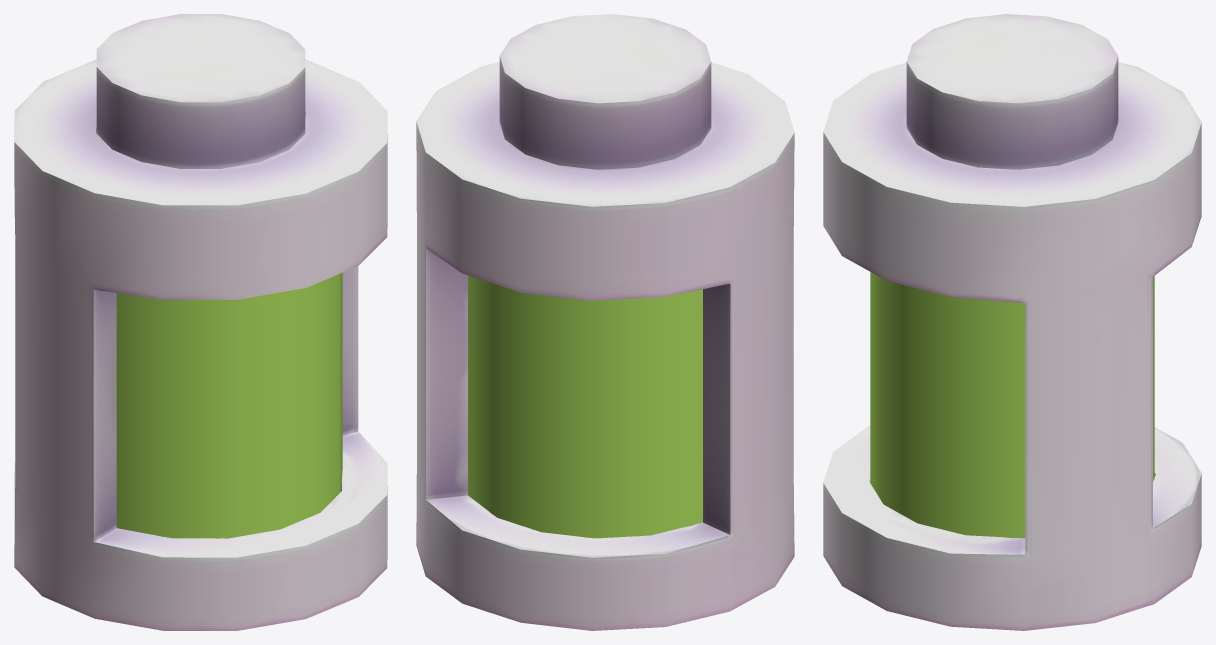
File: Banka.fbx
3 renders of one model, left to right at view 1: azimuth 30°, elevation 25°; view 2: azimuth 150°, elevation 25°; view 3: azimuth 270°, elevation 25°, orthographic.
Parts seen in each view (by area): view 1: capsule_low, liquid_low; view 2: capsule_low, liquid_low; view 3: capsule_low, liquid_low.
Boxes of the visible parts, <box> form: capsule_low: <box>14,14,387,630</box>; liquid_low: <box>116,272,342,538</box>; capsule_low: <box>416,14,794,630</box>; liquid_low: <box>468,275,702,538</box>; capsule_low: <box>823,14,1201,630</box>; liquid_low: <box>870,272,1154,538</box>.
Size of the model in its own units: 6.58 by 9.47 by 6.58.
2 materials, 1 textured.
